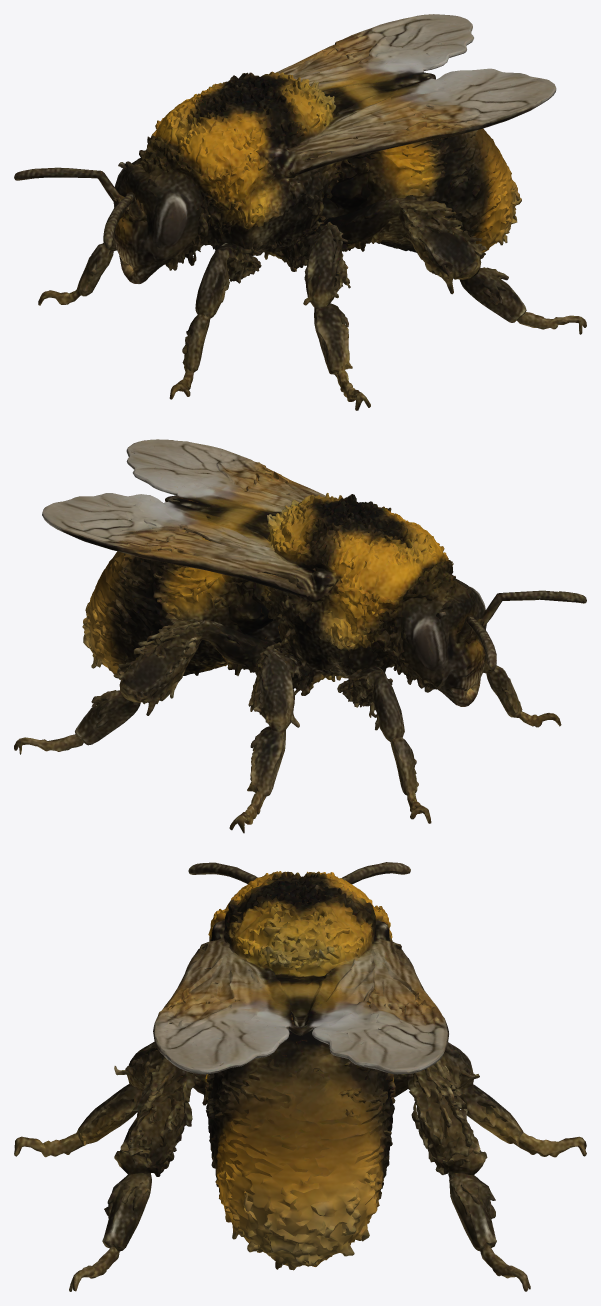
File: alpine-bee-v18-lod.glb
The picture shows the model from 3 angles, top to bottom: view 1: azimuth 30°, elevation 25°; view 2: azimuth 150°, elevation 25°; view 3: azimuth 270°, elevation 25°; orthographic projection. The views are drawn at different scales.
Visible parts, largest first — view 1: geometry_0; view 2: geometry_0; view 3: geometry_0.
Boxes of the visible parts, x1=… form: geometry_0: x1=14, y1=14, x2=586, y2=410; geometry_0: x1=14, y1=439, x2=586, y2=833; geometry_0: x1=14, y1=862, x2=586, y2=1291.
Size of the model in its own units: 0.02 by 0.0099 by 0.0187.
1 material, 1 textured.
